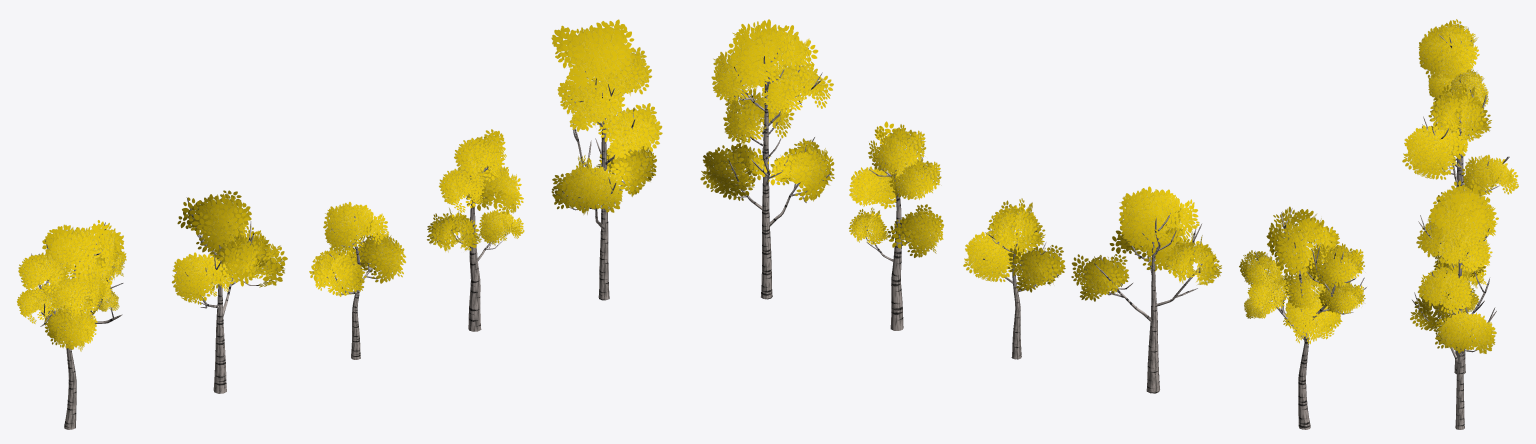
Rendered from BirchTrees.glb.
3 views of the same model, side by side, from view 1: azimuth 30°, elevation 25°; view 2: azimuth 150°, elevation 25°; view 3: azimuth 270°, elevation 25° (orthographic). The views are drawn at different scales.
Visible parts, largest first — view 1: BirchTree_2, BirchTree_3, BirchTree_5, BirchTree_1, BirchTree_4; view 2: BirchTree_2, BirchTree_3, BirchTree_5, BirchTree_1, BirchTree_4; view 3: BirchTree_2, BirchTree_5, BirchTree_3, BirchTree_1.
Part boxes in pixels (x1,y1,x2,y2): BirchTree_2: (551, 19, 662, 300); BirchTree_3: (17, 220, 126, 429); BirchTree_5: (171, 190, 287, 393); BirchTree_1: (427, 129, 524, 331); BirchTree_4: (309, 201, 406, 359); BirchTree_2: (700, 19, 834, 299); BirchTree_3: (1239, 206, 1366, 429); BirchTree_5: (1071, 186, 1221, 393); BirchTree_1: (848, 121, 943, 330); BirchTree_4: (963, 198, 1065, 359); BirchTree_2: (1410, 178, 1498, 429); BirchTree_5: (1402, 81, 1518, 196); BirchTree_3: (1418, 19, 1488, 190); BirchTree_1: (1425, 201, 1486, 374).
Bounding box in the file's own units: 18.56 × 7.57 × 3.51.
Materials: 2 (2 with a texture image).
